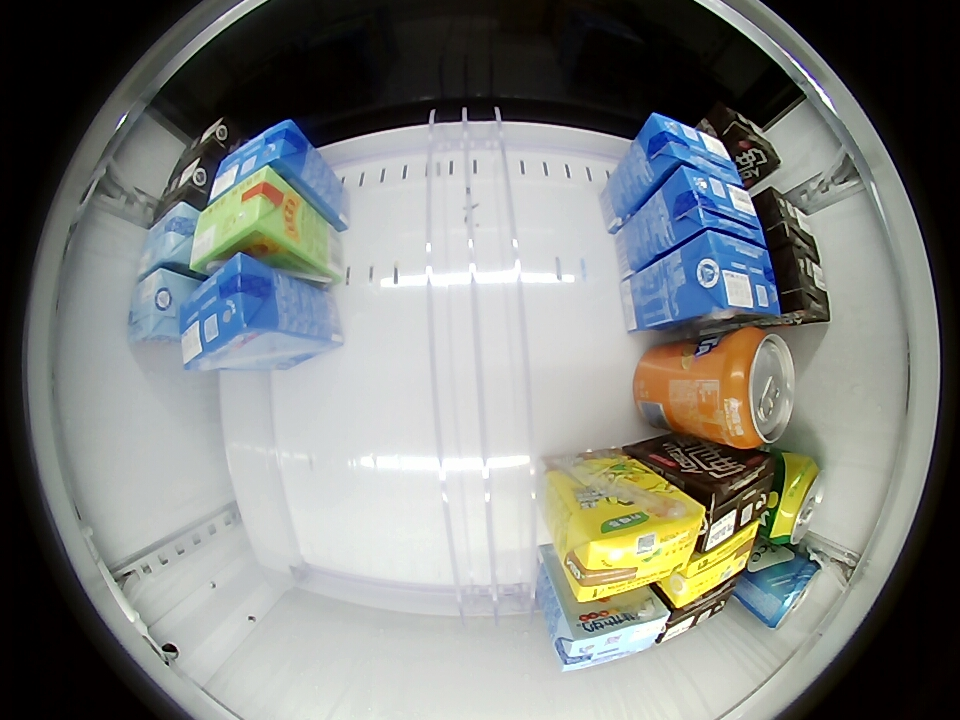fenda: (712, 327, 796, 449)
qingdaowangzi-2: (750, 547, 822, 630)
wanglaoji: (191, 166, 295, 272)
weitanai: (179, 255, 285, 368), (678, 230, 781, 322), (665, 165, 766, 247), (208, 119, 311, 199), (636, 112, 742, 186)
weitanai2: (693, 454, 774, 552), (653, 581, 737, 645), (711, 104, 782, 177), (756, 186, 820, 260), (776, 250, 831, 324), (157, 154, 217, 215), (173, 118, 235, 170)
weitanaiditang: (551, 595, 670, 673), (137, 201, 202, 281), (127, 267, 189, 345)
weitaningmeng: (558, 485, 706, 603), (665, 523, 759, 608)
xuebi2: (764, 454, 826, 545)
